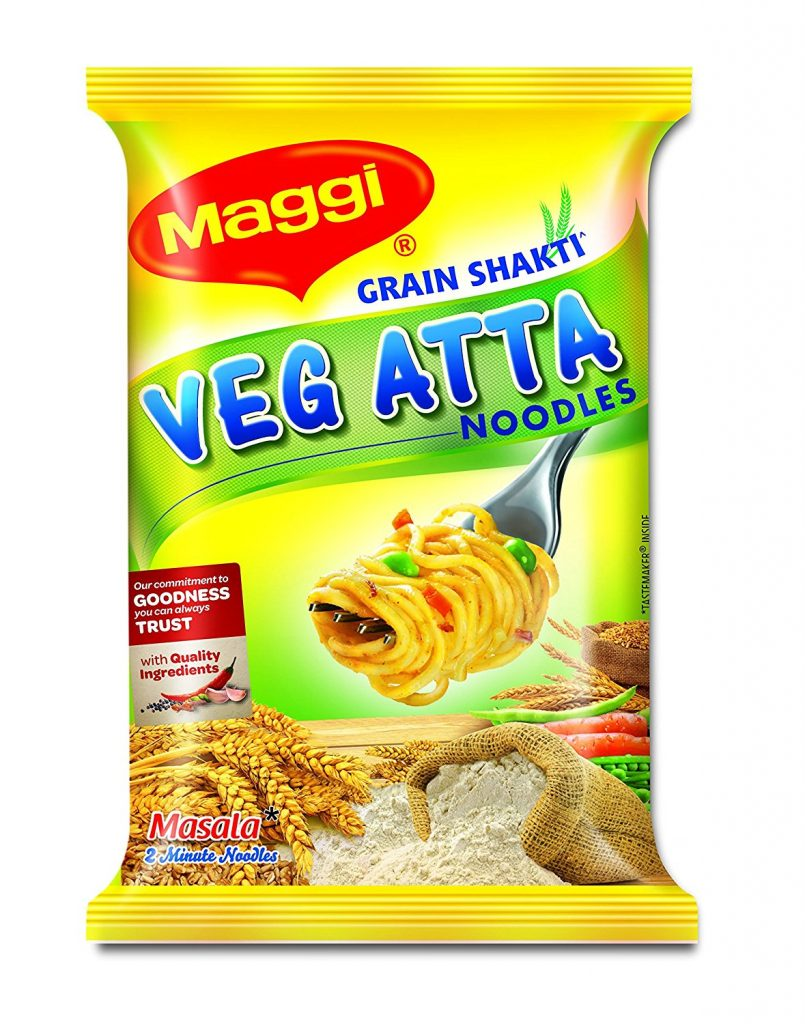maggi: (127, 121, 652, 884)
